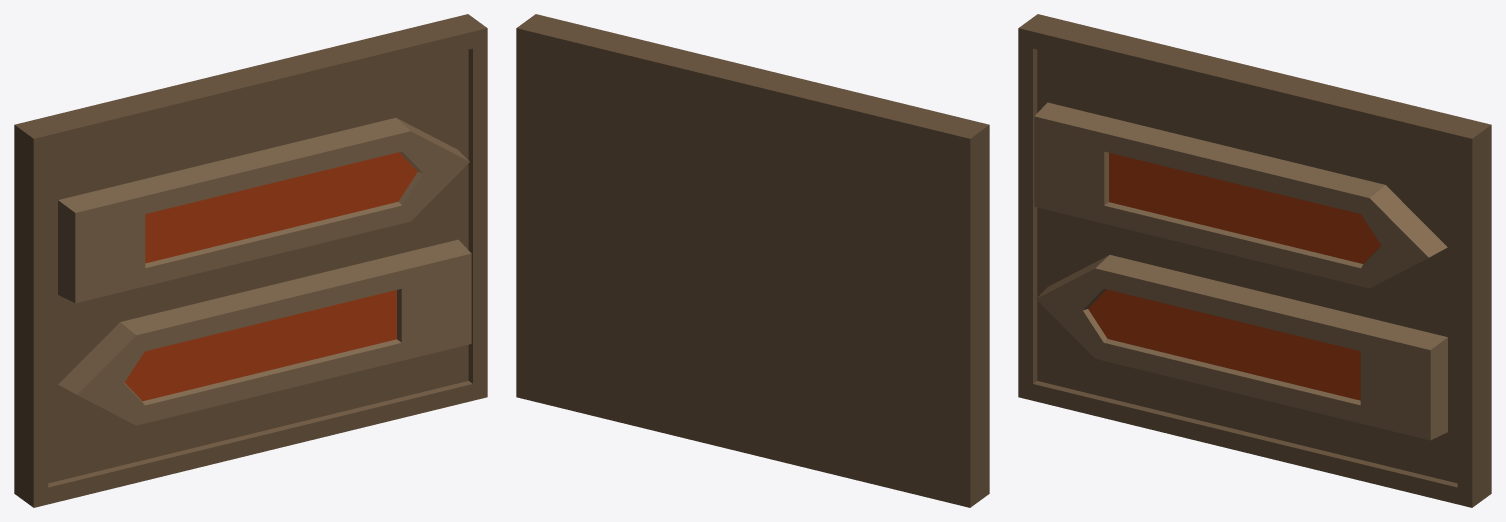
File: SM_SignBoard_01_E.fbx
The picture shows the model from 3 angles, left to right: view 1: azimuth 30°, elevation 25°; view 2: azimuth 150°, elevation 25°; view 3: azimuth 330°, elevation 25°; orthographic projection.
Visible parts, largest first — view 1: pCube735; view 2: pCube735; view 3: pCube735.
Boxes of the visible parts, x1,y1,x2,y2 form: pCube735: (14,14,487,507); pCube735: (516,14,989,507); pCube735: (1018,14,1491,507).
Size of the model in its own units: 138 by 108 by 17.04.
Materials: 1 (1 with a texture image).
